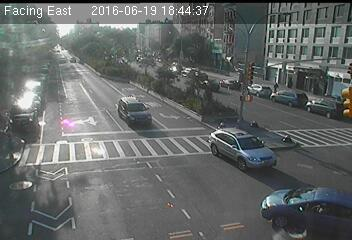neg: (220, 56, 234, 74)
